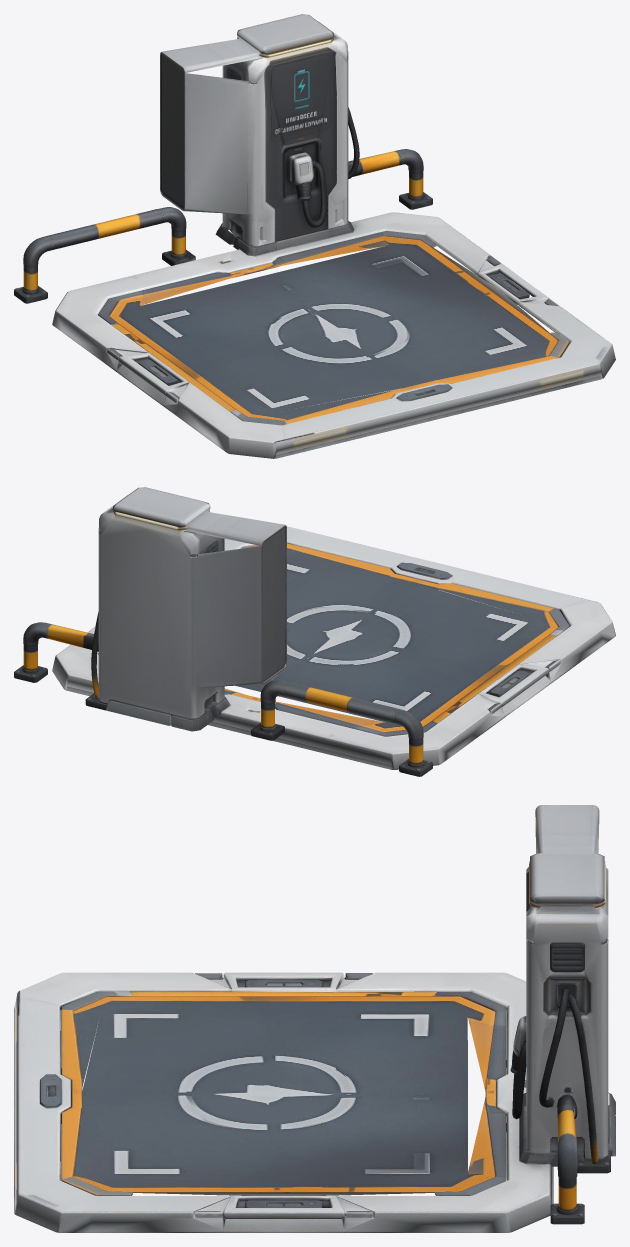
Rendered from ChargingStation.glb.
3 renders of one model, top to bottom at view 1: azimuth 30°, elevation 25°; view 2: azimuth 150°, elevation 25°; view 3: azimuth 270°, elevation 25°, orthographic. The views are drawn at different scales.
Visible parts, largest first — view 1: tripo_784786ff_bf3e_44aa_8111_d7cddc3ae735; view 2: tripo_784786ff_bf3e_44aa_8111_d7cddc3ae735; view 3: tripo_784786ff_bf3e_44aa_8111_d7cddc3ae735.
Part boxes in pixels (x1,y1,x2,y2): tripo_784786ff_bf3e_44aa_8111_d7cddc3ae735: (14,14,615,458); tripo_784786ff_bf3e_44aa_8111_d7cddc3ae735: (14,487,615,776); tripo_784786ff_bf3e_44aa_8111_d7cddc3ae735: (14,805,615,1232).
Bounding box in the file's own units: 0.9995 × 0.5073 × 0.9956.
Materials: 1 (1 with a texture image).
